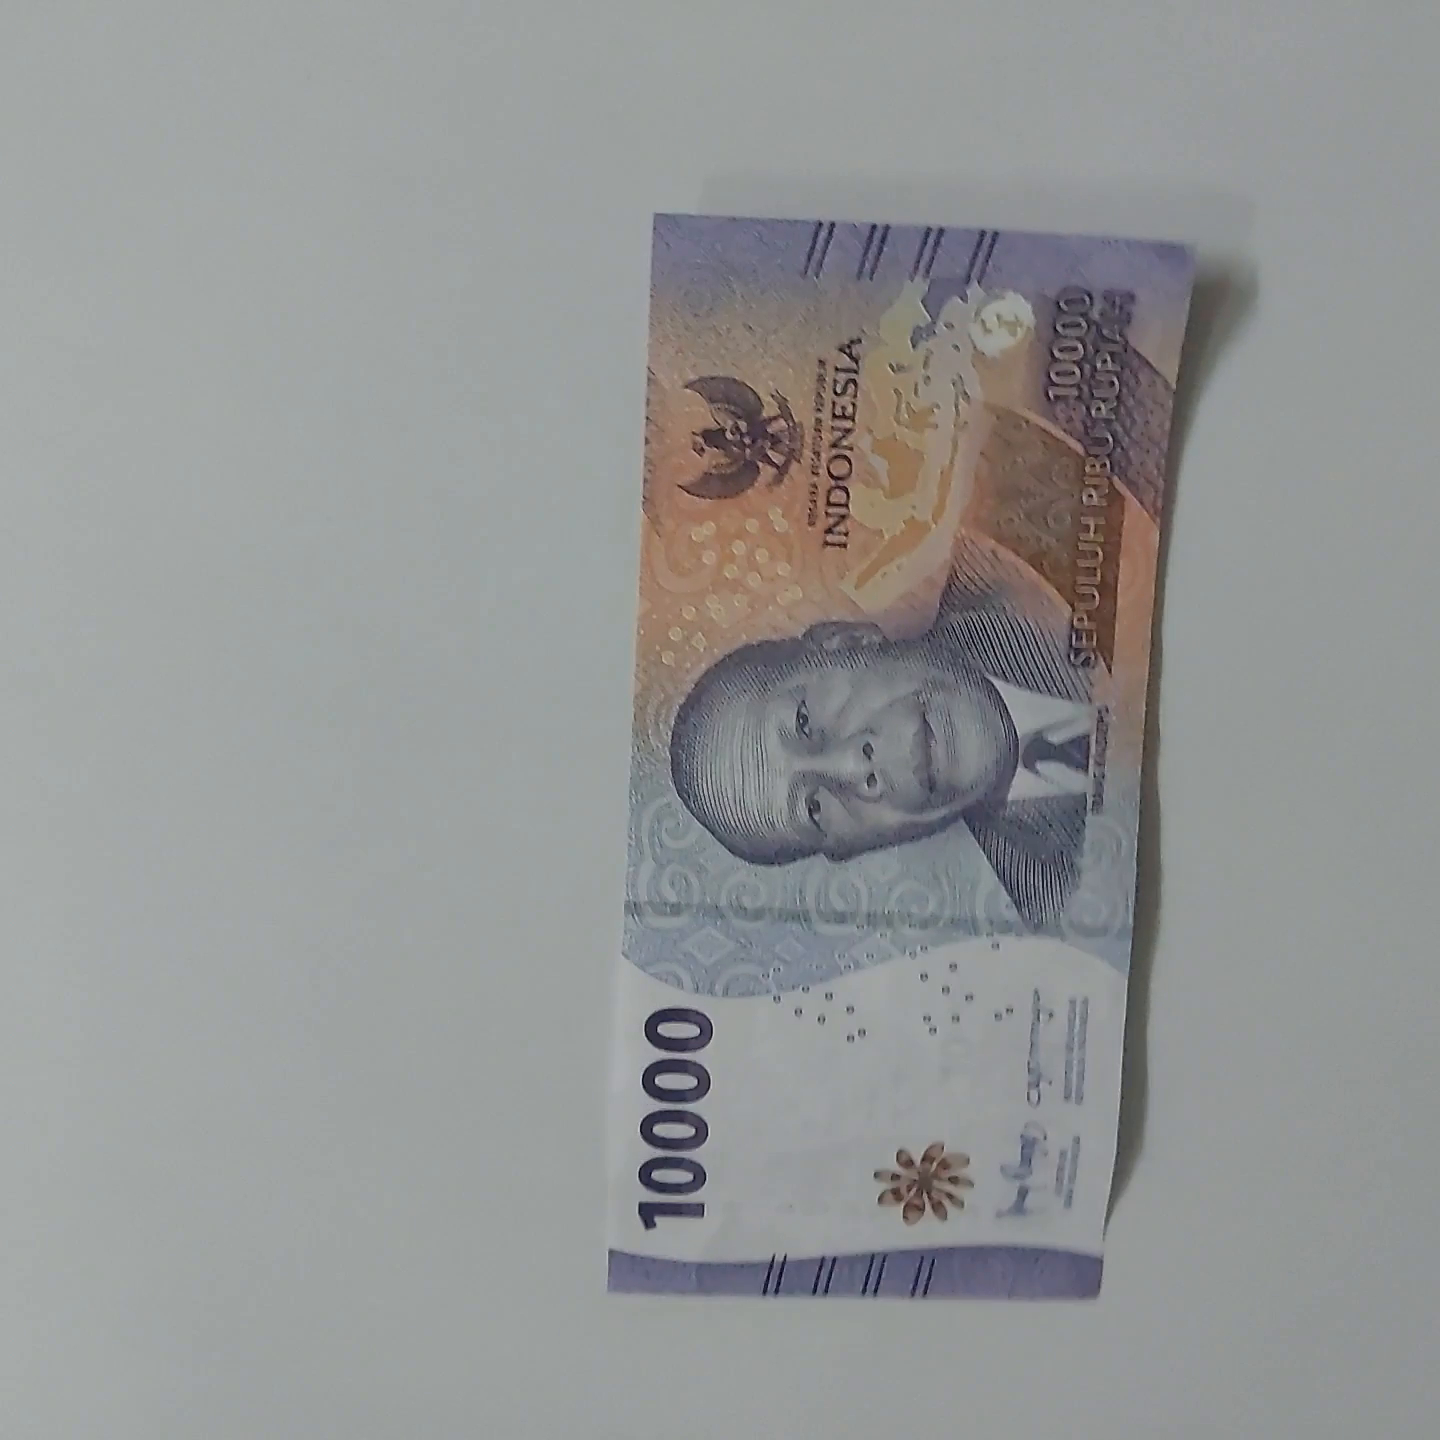10k: (626, 186, 1211, 1294)
